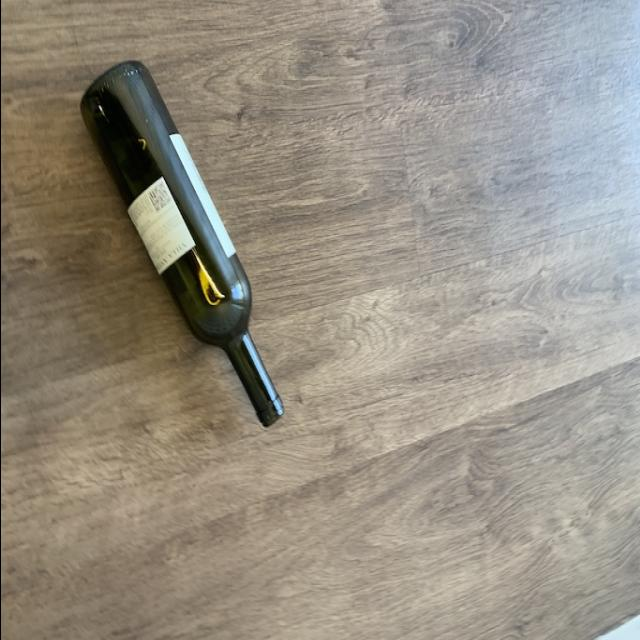Glass Bottle: (74, 58, 284, 436)
